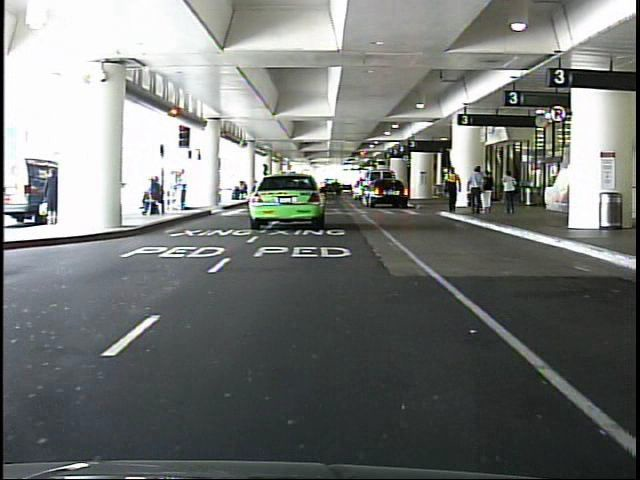person: (42, 168, 71, 226), (440, 162, 464, 218), (495, 169, 520, 218), (466, 162, 486, 217), (482, 167, 498, 218), (178, 168, 195, 214)
